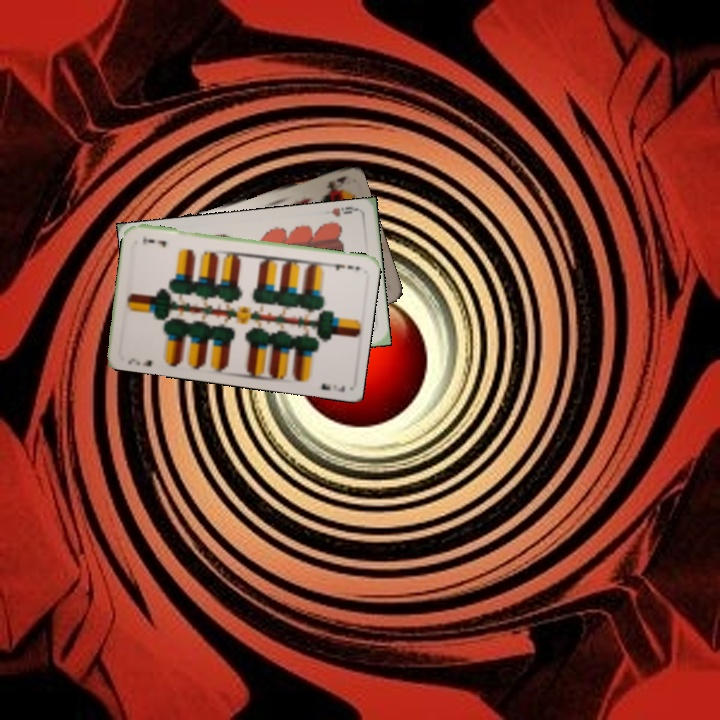E7: (323, 259, 363, 273), (124, 354, 155, 369)
H9: (328, 202, 361, 219)
SK: (323, 172, 349, 191)
